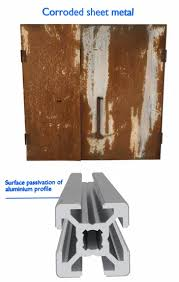rust: (19, 22, 93, 164), (102, 23, 146, 164), (14, 148, 178, 173), (150, 22, 172, 171)
